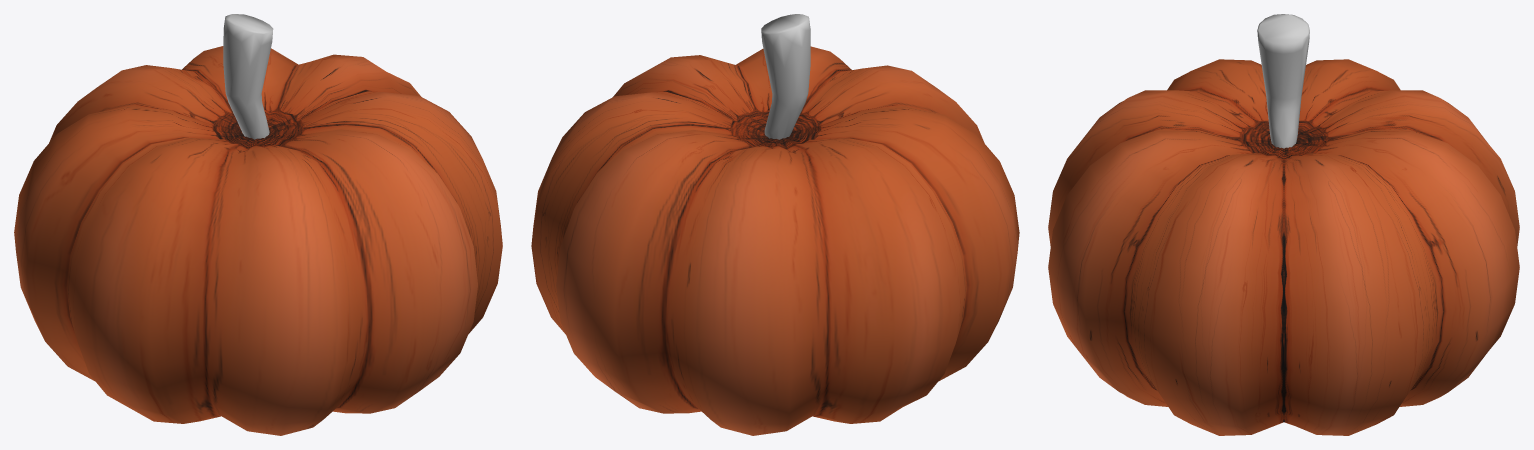
The model's file is calabazaLOD1.fbx.
3 renders of one model, left to right at view 1: azimuth 30°, elevation 25°; view 2: azimuth 150°, elevation 25°; view 3: azimuth 270°, elevation 25°, orthographic.
Visible parts, largest first — view 1: Esfera.001, Esfera; view 2: Esfera.001, Esfera; view 3: Esfera.001, Esfera.
Part boxes in pixels (left/top/right/bottom): Esfera.001: left=14, top=46, right=502, bottom=435; Esfera: left=223, top=14, right=273, bottom=139; Esfera.001: left=531, top=46, right=1019, bottom=435; Esfera: left=761, top=14, right=810, bottom=139; Esfera.001: left=1048, top=59, right=1519, bottom=435; Esfera: left=1257, top=14, right=1309, bottom=148.
Size of the model in its own units: 149 by 124 by 149.
